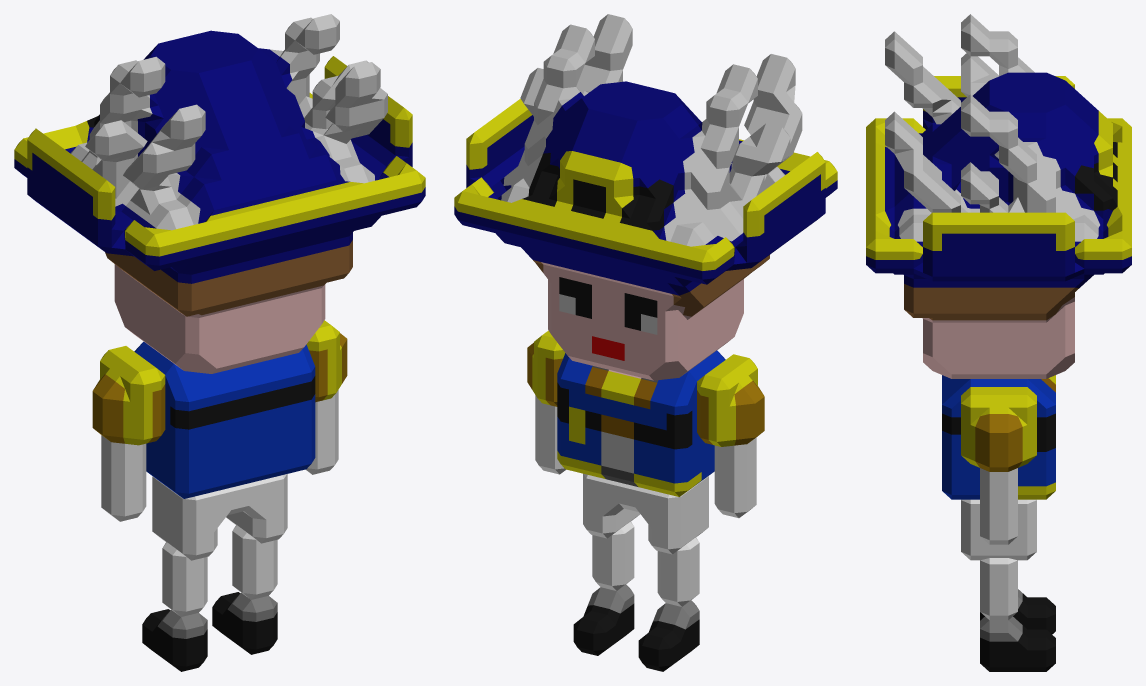
The model's file is itmyNapol_test1.fbx.
3 renders of one model, left to right at view 1: azimuth 30°, elevation 25°; view 2: azimuth 150°, elevation 25°; view 3: azimuth 270°, elevation 25°, orthographic. The views are drawn at different scales.
Visible parts, largest first — view 1: nafol_bone, nafol_bone.012, nafol_bone.007, nafol_bone.014, nafol_bone.001, nafol_bone.002, nafol_bone.013, nafol_bone.009, nafol_bone.005, nafol_bone.006, nafol_bone.011, nafol_bone.008 (+3 smaller); view 2: nafol_bone, nafol_bone.012, nafol_bone.007, nafol_bone.014, nafol_bone.001, nafol_bone.002, nafol_bone.013, nafol_bone.009, nafol_bone.006, nafol_bone.005, nafol_bone.011, nafol_bone.008 (+3 smaller); view 3: nafol_bone, nafol_bone.012, nafol_bone.013, nafol_bone.001, nafol_bone.007, nafol_bone.005, nafol_bone.008, nafol_bone.010, nafol_bone.002, nafol_bone.003.
Boxes of the visible parts, box(x1,y1,x2,y2) form: nafol_bone: box(14, 14, 425, 373); nafol_bone.012: box(134, 341, 315, 498); nafol_bone.007: box(152, 474, 287, 560); nafol_bone.014: box(92, 346, 165, 445); nafol_bone.001: box(212, 592, 277, 654); nafol_bone.002: box(142, 609, 207, 671); nafol_bone.013: box(306, 320, 347, 402); nafol_bone.009: box(101, 471, 146, 521); nafol_bone.005: box(232, 525, 277, 576); nafol_bone.006: box(162, 542, 207, 593); nafol_bone.011: box(101, 435, 146, 480); nafol_bone.008: box(305, 424, 338, 474); nafol_bone: box(454, 14, 837, 380); nafol_bone.012: box(557, 350, 725, 496); nafol_bone.007: box(583, 473, 708, 554); nafol_bone.014: box(697, 354, 764, 446); nafol_bone.001: box(573, 584, 634, 655); nafol_bone.002: box(638, 600, 699, 671); nafol_bone.013: box(527, 330, 564, 406); nafol_bone.009: box(714, 470, 756, 518); nafol_bone.006: box(657, 537, 699, 585); nafol_bone.005: box(592, 521, 634, 569); nafol_bone.011: box(714, 437, 756, 478); nafol_bone.008: box(535, 426, 565, 474); nafol_bone: box(866, 14, 1131, 378); nafol_bone.012: box(942, 375, 1055, 499); nafol_bone.013: box(961, 387, 1036, 471); nafol_bone.001: box(980, 616, 1055, 671); nafol_bone.007: box(961, 499, 1036, 560); nafol_bone.005: box(980, 558, 1017, 598); nafol_bone.008: box(980, 502, 1017, 544); nafol_bone.010: box(980, 468, 1017, 506); nafol_bone.002: box(980, 589, 1055, 634); nafol_bone.003: box(980, 594, 1017, 620).
Bounding box in the file's own units: 1.8 × 3.45 × 1.4.
